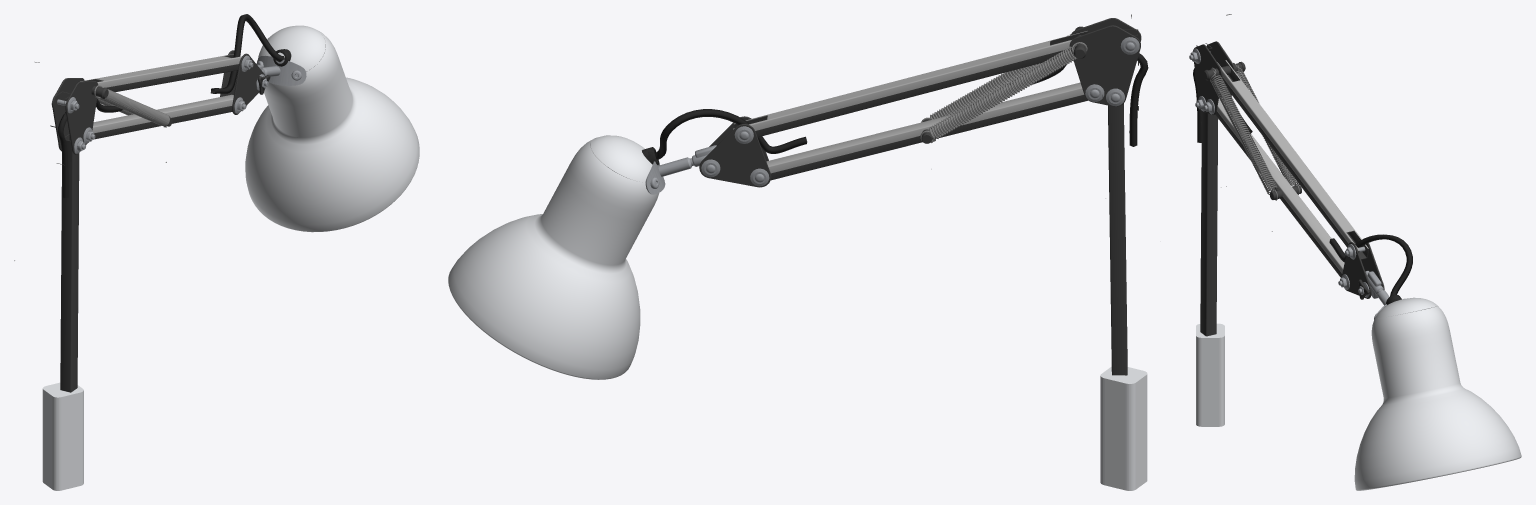
The model's file is Lamp Rotated 1.fbx.
The picture shows the model from 3 angles, left to right: view 1: azimuth 30°, elevation 25°; view 2: azimuth 150°, elevation 25°; view 3: azimuth 270°, elevation 25°; orthographic projection. The views are drawn at different scales.
Visible parts, largest first — view 1: Object_2108, Object_1944, Object_2258, Object_1958, Object_1946, Object_2280, Object_2268, Object_2008, Object_2310, Object_2256, Object_2278, Object_2266 (+3 smaller); view 2: Object_2108, Object_1944, Object_2280, Object_2268, Object_2012, Object_2316, Object_2258, Object_1946, Object_2278, Object_2256, Object_2266, Object_1974 (+2 smaller); view 3: Object_2108, Object_2256, Object_2280, Object_1944, Object_2268, Object_2310, Object_1946, Object_2008, Object_2258, Object_2278, Object_1958, Object_1970 (+2 smaller).
Part boxes in pixels (x1,y1,x2,y2): Object_2108: [245, 30, 419, 232]; Object_1944: [42, 382, 83, 490]; Object_2258: [60, 140, 76, 392]; Object_1958: [259, 25, 325, 71]; Object_1946: [57, 14, 284, 197]; Object_2280: [80, 54, 241, 87]; Object_2268: [92, 94, 233, 133]; Object_2008: [67, 82, 98, 154]; Object_2310: [94, 85, 169, 127]; Object_2256: [74, 153, 79, 389]; Object_2278: [106, 64, 238, 92]; Object_2266: [94, 106, 232, 139]; Object_2108: [448, 139, 659, 379]; Object_1944: [1100, 367, 1147, 490]; Object_2280: [733, 31, 1087, 130]; Object_2268: [766, 82, 1084, 173]; Object_2012: [1070, 26, 1140, 106]; Object_2316: [920, 42, 1087, 142]; Object_2258: [1115, 103, 1127, 375]; Object_1946: [655, 53, 1148, 160]; Object_2278: [755, 49, 1069, 137]; Object_2256: [1108, 105, 1119, 375]; Object_2266: [770, 95, 1087, 180]; Object_1974: [700, 125, 770, 187]; Object_2108: [1354, 306, 1521, 490]; Object_2256: [1203, 112, 1218, 336]; Object_2280: [1217, 60, 1368, 251]; Object_1944: [1196, 323, 1224, 426]; Object_2268: [1217, 98, 1344, 273]; Object_2310: [1210, 67, 1277, 200]; Object_1946: [1193, 68, 1412, 296]; Object_2008: [1194, 45, 1221, 114]; Object_2258: [1200, 111, 1204, 333]; Object_2278: [1222, 78, 1348, 247]; Object_1958: [1375, 297, 1437, 318]; Object_1970: [1342, 242, 1370, 298].
Bounding box in the file's own units: 87.45 × 69.61 × 52.7.
